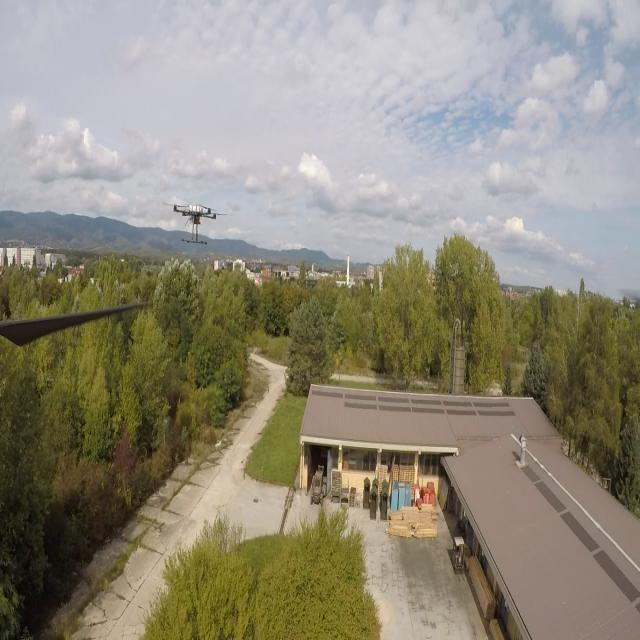UAV: (160, 196, 228, 246)
